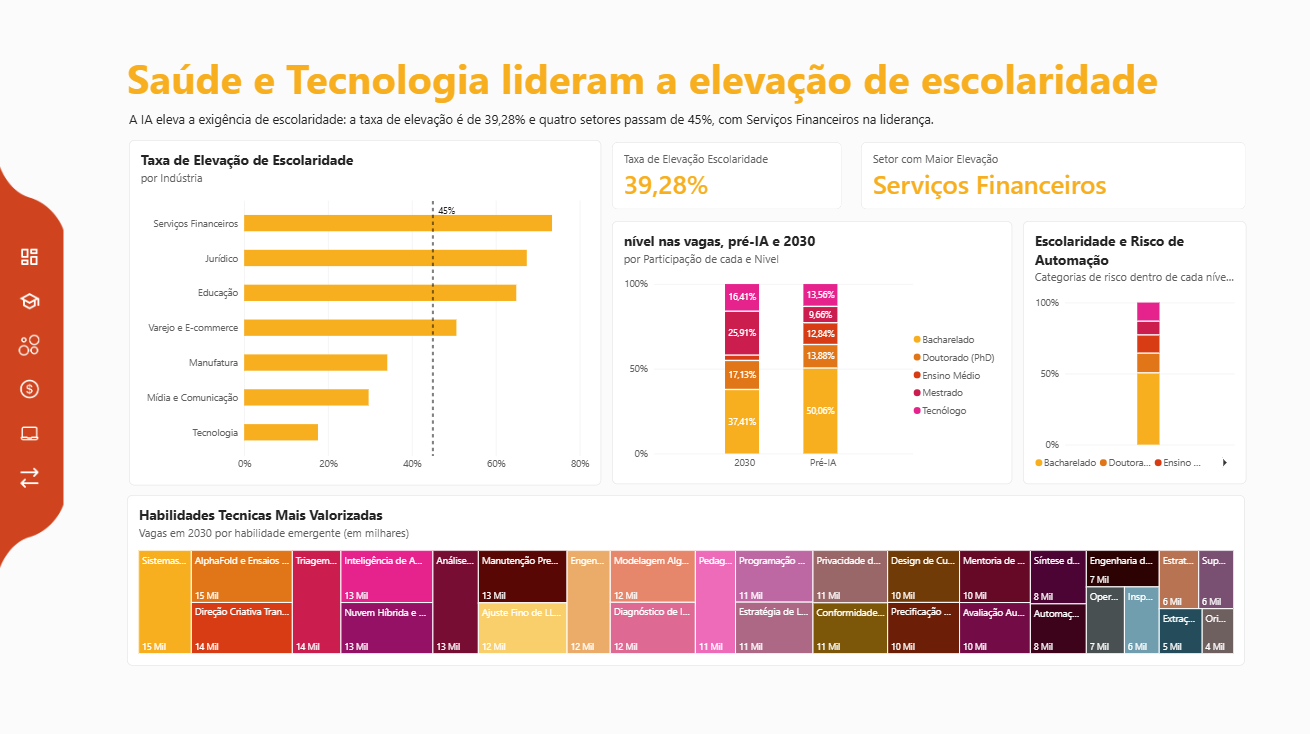

The dashboard page shown, as its layout file describes it:
{"tool":"powerbi","page":{"name":"Educação","canvas":[1920,1080],"ordinal":1},"visuals":[{"type":"cardVisual","fields":{"Data":["Medidas Volume de Vagas.Taxa_Elevacao_Escolaridade"]},"box":[897.1,208.6,335.7,101.4],"z":0},{"type":"cardVisual","fields":{"Data":["Medidas Volume de Vagas.Setor_Lider"]},"box":[1260,208.6,561.4,101.4],"z":1000},{"type":"clusteredBarChart","fields":{"Category":["dim_setor.Industry"],"Y":["Medidas Gerais.Taxa_Elevacao_Escolaridade"]},"box":[192.9,208.6,688.6,504.3],"z":2000},{"type":"hundredPercentStackedColumnChart","fields":{"Category":["Periodo.Periodo"],"Series":["dim_escolaridade.Nivel_Escolaridade"],"Y":["Medidas Gerais.Vagas_por_Nivel"]},"box":[897.1,327.1,584.3,384.3],"z":3000},{"type":"treemap","title":"Habilidades Tecnicas Mais Valorizadas","fields":{"Group":["dim_cargo.Primary_Emerging_Skill"],"Values":["Sum(fato_ai_job_impact.Job_Volume_2030_k)"]},"box":[190,727.1,1631.4,248.6],"z":4000},{"type":"hundredPercentStackedColumnChart","title":"Escolaridade e Risco de Automação","fields":{"Series":["dim_escolaridade.Nivel_Escolaridade"],"Y":["CountNonNull(fato_ai_job_impact.Risk_Category)"]},"box":[1497.1,327.1,325.7,384.3],"z":5000},{"type":"group","id":"g1","title":"Grupo 1","box":[0,132.9,97.1,814.3],"z":6000},{"type":"textbox","box":[190,78.6,1611.4,85.7],"z":7000},{"type":"textbox","box":[192.9,164.3,1484.3,34.3],"z":8000},{"type":"image","box":[0,132.9,97.1,814.3],"z":9000,"group":"g1"},{"type":"actionButton","box":[17.1,417.2,61.4,52.9],"z":10000,"group":"g1"},{"type":"actionButton","box":[17.1,482.9,61.4,52.9],"z":11000,"group":"g1"},{"type":"actionButton","box":[17.1,547.2,61.4,52.9],"z":12000,"group":"g1"},{"type":"actionButton","box":[17.1,611.5,61.4,52.9],"z":13000,"group":"g1"},{"type":"actionButton","box":[17.1,674.3,61.4,52.9],"z":14000,"group":"g1"},{"type":"actionButton","box":[17.1,351.5,61.4,52.9],"z":15000,"group":"g1"}]}

Visuals, with their boxes on the page's 1920x1080 design canvas (x1, y1, x2, y2). These are canvas units, not pixel positions in the 1310x734 screenshot, which may show the page scaled, cropped or inside an application window:
cardVisual - Medidas Volume de Vagas.Taxa_Elevacao_Escolaridade: pyautogui.locateOnScreen(897, 209, 1233, 310)
cardVisual - Medidas Volume de Vagas.Setor_Lider: pyautogui.locateOnScreen(1260, 209, 1821, 310)
clusteredBarChart - dim_setor.Industry x Medidas Gerais.Taxa_Elevacao_Escolaridade: pyautogui.locateOnScreen(193, 209, 882, 713)
hundredPercentStackedColumnChart - Periodo.Periodo x dim_escolaridade.Nivel_Escolaridade: pyautogui.locateOnScreen(897, 327, 1481, 711)
"Habilidades Tecnicas Mais Valorizadas" treemap: pyautogui.locateOnScreen(190, 727, 1821, 976)
"Escolaridade e Risco de Automação" hundredPercentStackedColumnChart: pyautogui.locateOnScreen(1497, 327, 1823, 711)
"Grupo 1" group: pyautogui.locateOnScreen(0, 133, 97, 947)
textbox: pyautogui.locateOnScreen(190, 79, 1801, 164)
textbox: pyautogui.locateOnScreen(193, 164, 1677, 199)
image: pyautogui.locateOnScreen(0, 133, 97, 947)
actionButton: pyautogui.locateOnScreen(17, 417, 78, 470)
actionButton: pyautogui.locateOnScreen(17, 483, 78, 536)
actionButton: pyautogui.locateOnScreen(17, 547, 78, 600)
actionButton: pyautogui.locateOnScreen(17, 612, 78, 664)
actionButton: pyautogui.locateOnScreen(17, 674, 78, 727)
actionButton: pyautogui.locateOnScreen(17, 352, 78, 404)
